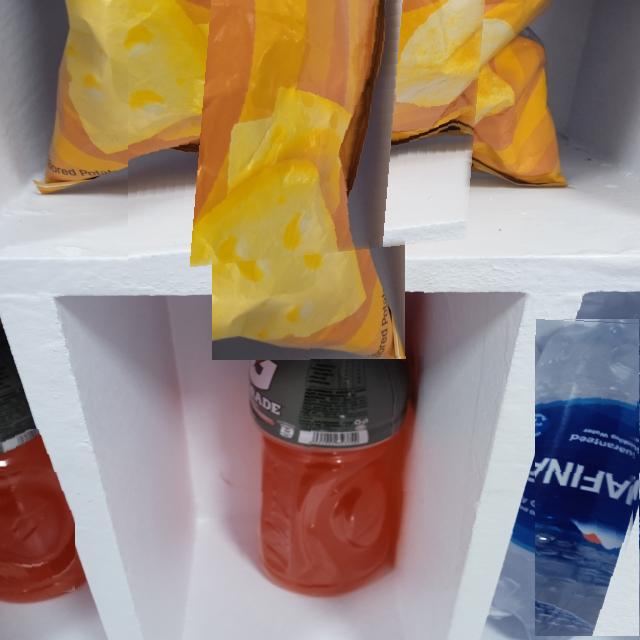Plastic: (128, 0, 488, 276), (242, 289, 424, 596), (535, 318, 639, 636), (0, 429, 75, 598)
